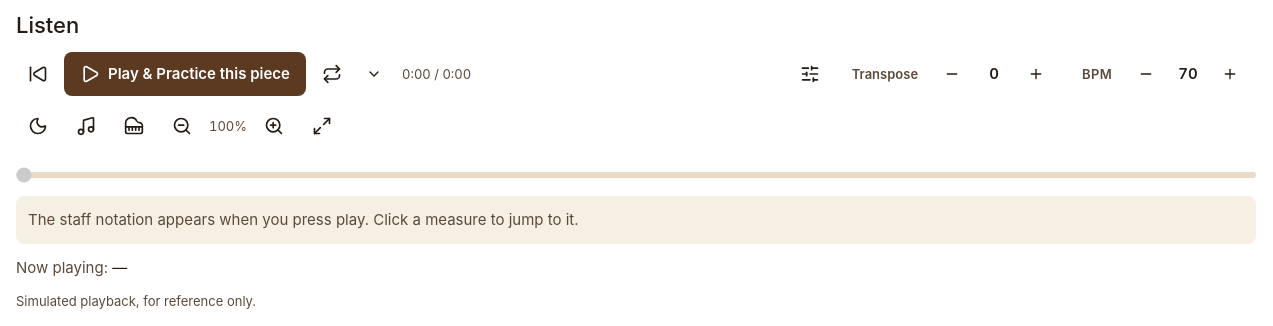
Test case: MidiPlayer với khuông nhạc (C1b) › khuông ném lỗi (hoặc chunk lazy không tải được): chỉ hiện thông báo, player và nút vẫn chạy
Click the button "Play & Practice this piece" at (185, 74), box [64,52,306,96]
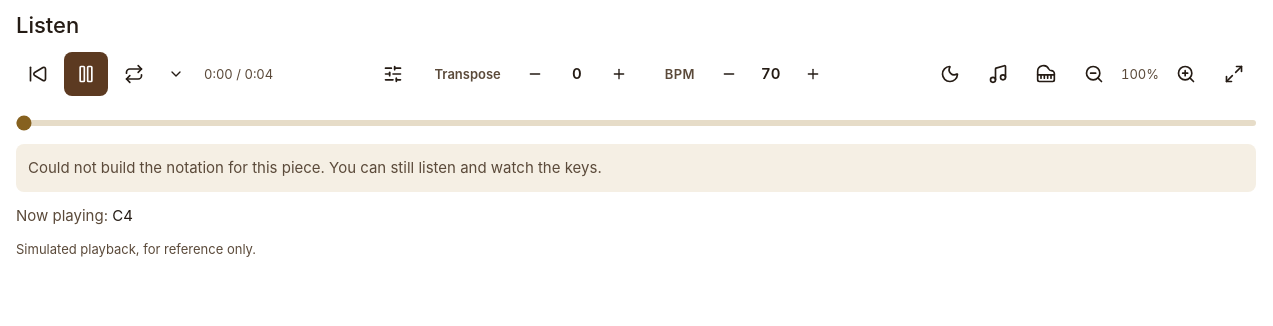
Expected: the text "Could not build the notation" is shown, [28,158,602,177]
Expected: the button named "Pause" is shown, [64,52,108,96]
